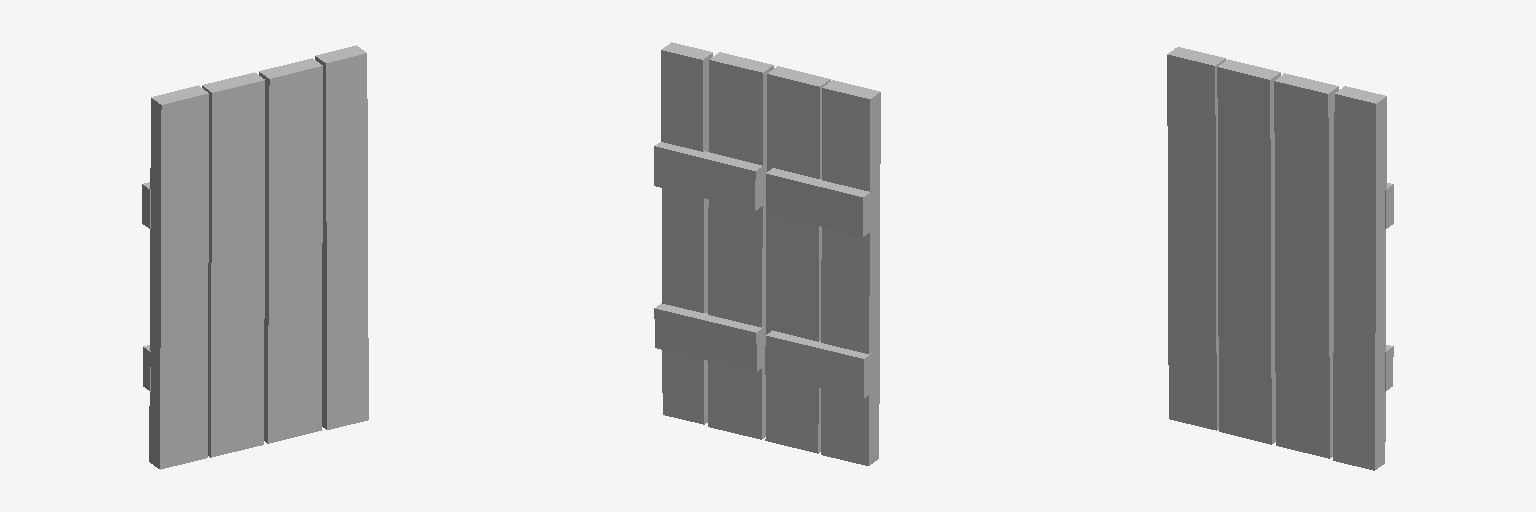
File: WindowShutters_Thin_Flat_Closed.obj
3 views of the same model, side by side, from view 1: azimuth 30°, elevation 25°; view 2: azimuth 150°, elevation 25°; view 3: azimuth 330°, elevation 25° (orthographic).
Visible parts, largest first — view 1: WindowShutters_Thin_Flat_Closed; view 2: WindowShutters_Thin_Flat_Closed; view 3: WindowShutters_Thin_Flat_Closed.
Part boxes in pixels (x1,y1,x2,y2): WindowShutters_Thin_Flat_Closed: (142,45,368,469); WindowShutters_Thin_Flat_Closed: (654,42,880,465); WindowShutters_Thin_Flat_Closed: (1167,47,1393,470).
Size of the model in its own units: 0.8518 by 1.42 by 0.1358.